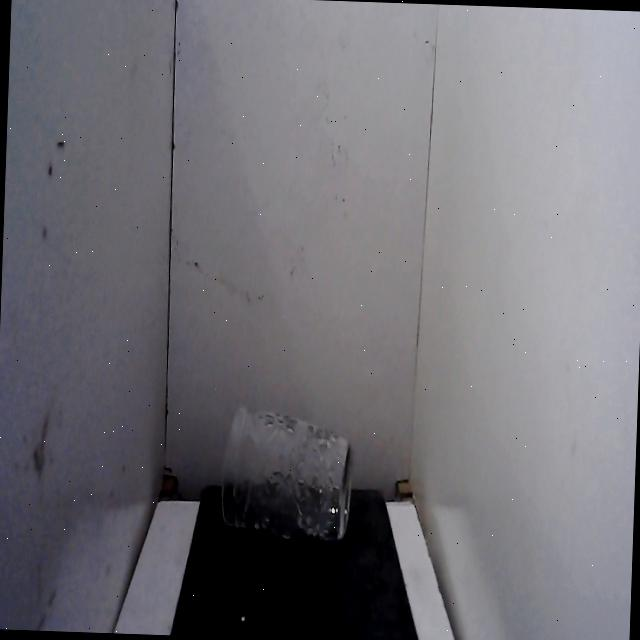glass: (216, 397, 359, 550)
